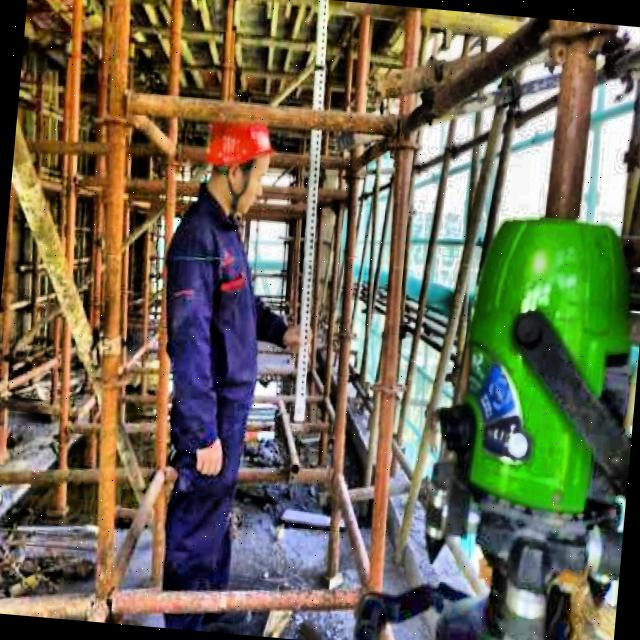helmet: (202, 114, 278, 214)
